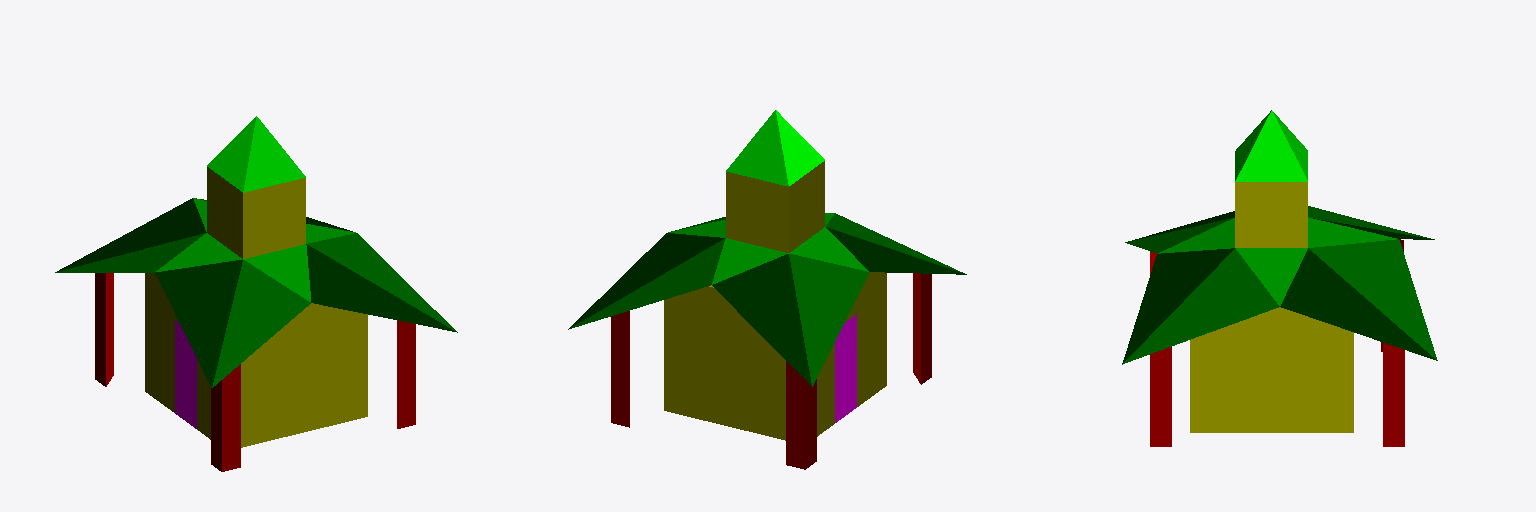
File: chinese_house.obj
The picture shows the model from 3 angles: view 1: azimuth 30°, elevation 25°; view 2: azimuth 150°, elevation 25°; view 3: azimuth 270°, elevation 25°; orthographic projection.
Visible parts, largest first — view 1: Cube.002_Cube.002; view 2: Cube.002_Cube.002; view 3: Cube.002_Cube.002.
Boxes of the visible parts, x1,y1,x2,y2 form: Cube.002_Cube.002: [55, 116, 457, 471]; Cube.002_Cube.002: [568, 110, 966, 469]; Cube.002_Cube.002: [1122, 110, 1437, 446].
Bounding box in the file's own units: 76.37 × 85.83 × 85.06.